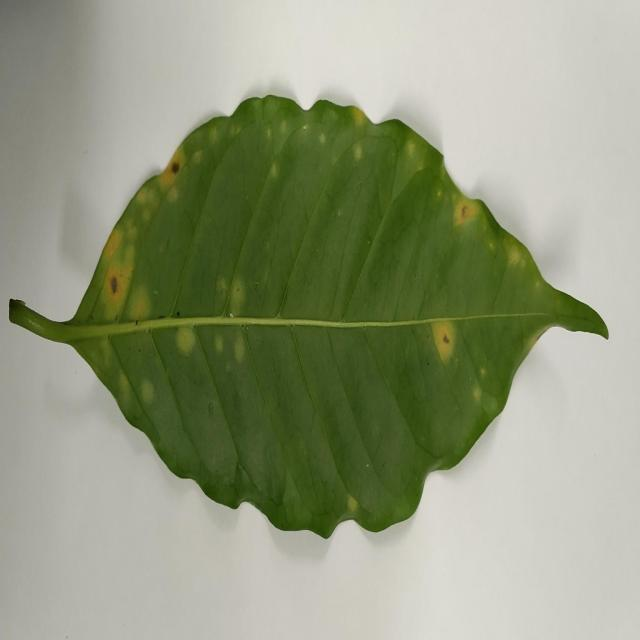rust: (100, 261, 132, 313), (430, 319, 457, 366), (162, 145, 186, 197), (452, 188, 483, 227), (130, 288, 151, 324)
